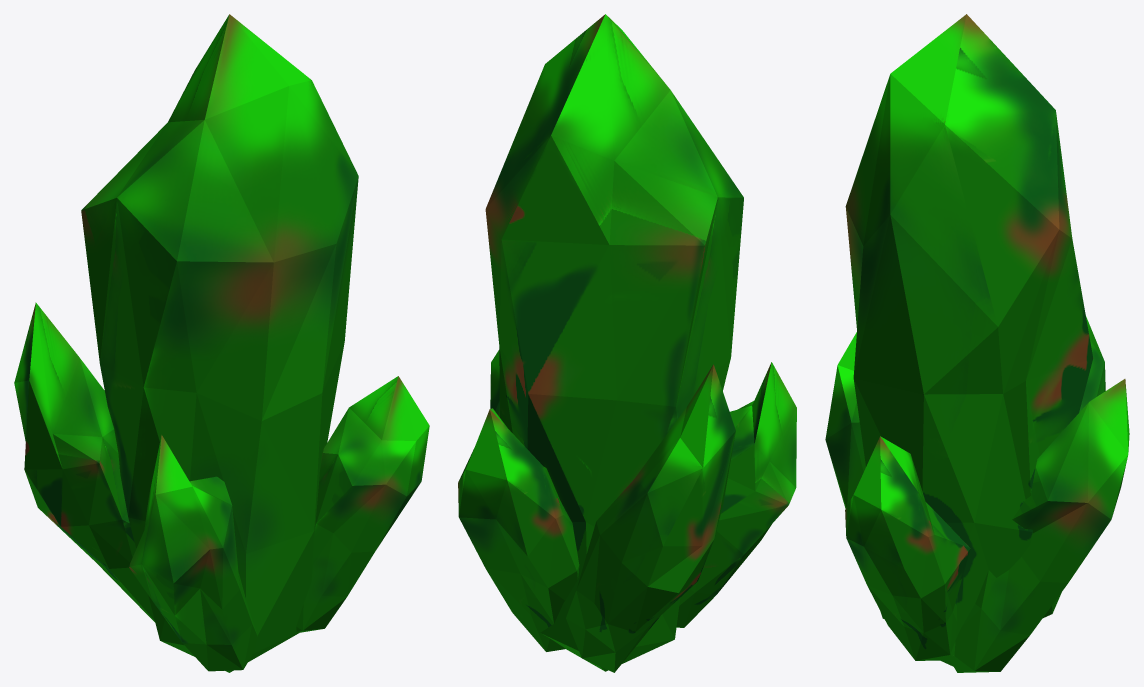
File: Shard_3.fbx
3 renders of one model, left to right at view 1: azimuth 30°, elevation 25°; view 2: azimuth 150°, elevation 25°; view 3: azimuth 270°, elevation 25°, orthographic.
Parts seen in each view (by area): view 1: Icosphere; view 2: Icosphere; view 3: Icosphere.
Part boxes in pixels (x1=…): Icosphere: x1=14, y1=14, x2=429, y2=672; Icosphere: x1=458, y1=14, x2=796, y2=672; Icosphere: x1=825, y1=14, x2=1129, y2=672.
Bounding box in the file's own units: 244 × 476 × 199.
1 material, 1 textured.
